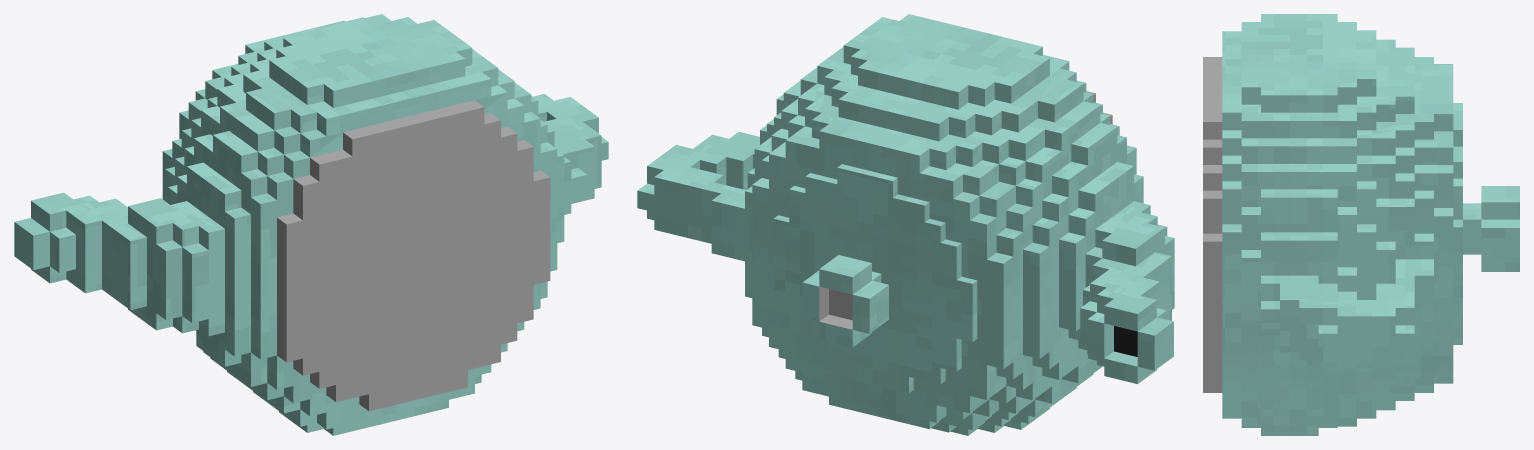
File: UtahTeapot.fbx
3 renders of one model, left to right at view 1: azimuth 30°, elevation 25°; view 2: azimuth 150°, elevation 25°; view 3: azimuth 270°, elevation 25°, orthographic.
Visible parts, largest first — view 1: UtahTeapot; view 2: UtahTeapot, Lid; view 3: UtahTeapot, Lid.
Part boxes in pixels (bbox=[...]): UtahTeapot: bbox=[14, 14, 608, 435]; UtahTeapot: bbox=[637, 14, 1174, 435]; Lid: bbox=[773, 164, 977, 393]; UtahTeapot: bbox=[1203, 14, 1453, 435]; Lid: bbox=[1453, 103, 1519, 344].
Bounding box in the file's own units: 32 × 20 × 16.46.
